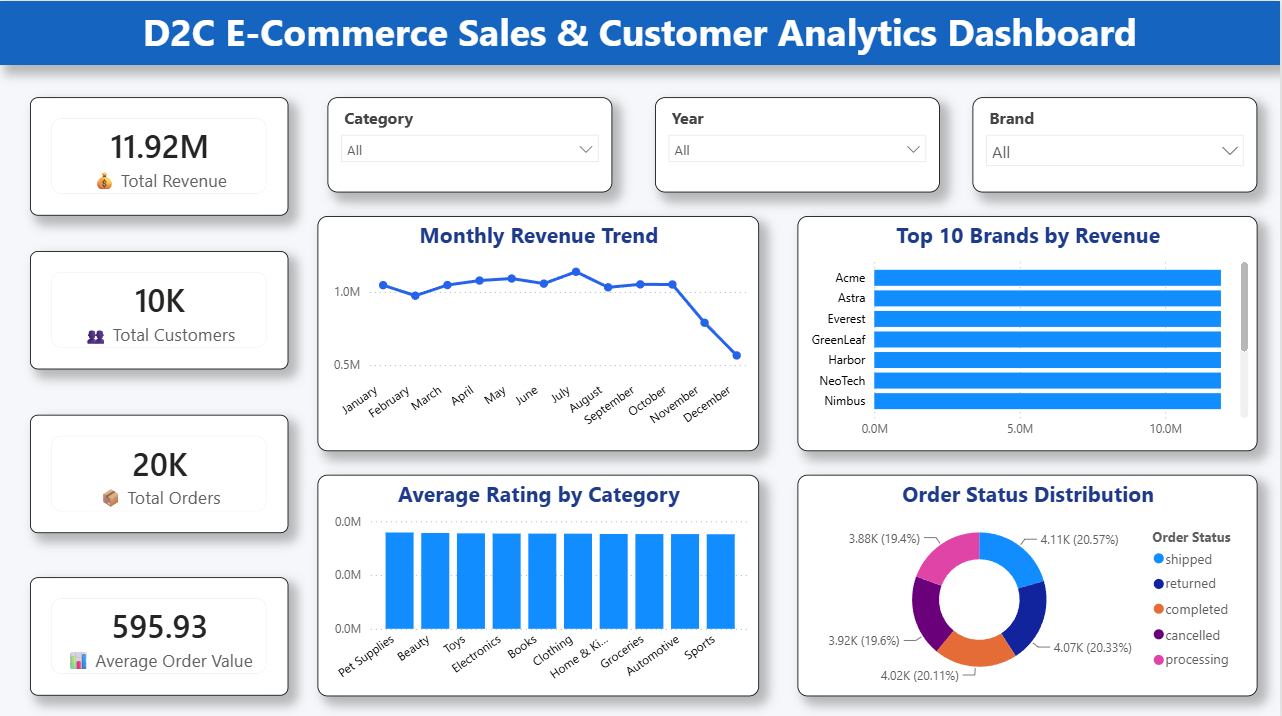

What the dashboard file says about the page in this screenshot:
{"tool":"powerbi","page":{"name":"Executive Overview","canvas":[1280,720],"ordinal":0},"visuals":[{"type":"shape","box":[0,0,1280,61.2],"z":0},{"type":"textbox","box":[0,0,1280,63.8],"z":1000},{"type":"cardVisual","fields":{"Data":["orders.Total Revenue"]},"box":[30,96.2,258.8,118.8],"z":2000},{"type":"cardVisual","fields":{"Data":["events.Total Orders"]},"box":[30,413.8,258.8,118.8],"z":3000},{"type":"cardVisual","fields":{"Data":["events.Total Customers"]},"box":[30,250,258.8,118.8],"z":4000},{"type":"cardVisual","fields":{"Data":["order_items.Average Order Value"]},"box":[30,576.2,258.8,118.8],"z":5000},{"type":"lineChart","title":"Monthly Revenue Trend","fields":{"Y":["orders.Total Revenue"],"Category":["orders.order_date.Variation.Date Hierarchy.Month"]},"box":[317.5,215,441.2,235],"z":6000},{"type":"clusteredBarChart","title":"Top 10 Brands by Revenue","fields":{"Y":["orders.Total Revenue"],"Category":["products.brand"]},"box":[797.5,215,460,235],"z":7000},{"type":"slicer","fields":{"Values":["products.brand"]},"box":[972.5,96.2,285,95],"z":8000},{"type":"slicer","fields":{"Values":["orders.order_date.Variation.Date Hierarchy.Year","orders.order_date.Variation.Date Hierarchy.Month"]},"box":[655,96.2,285,95],"z":9000},{"type":"slicer","fields":{"Values":["products.category"]},"box":[327.5,96.2,285,95],"z":10000},{"type":"clusteredColumnChart","title":"Average Rating by Category","fields":{"Category":["products.category"],"Y":["orders.Average Rating"]},"box":[317.5,473.8,441.2,221.2],"z":11000},{"type":"donutChart","title":" Order Status Distribution","fields":{"Category":["orders.order_status"],"Y":["CountNonNull(orders.order_id)"]},"box":[797.5,473.8,460,221.2],"z":12000}]}

Visuals, with their boxes in screenshot pixels (x1, y1, x2, y2), scaled from the page's 1280x720 canvas onto the 1282x716 screenshot:
shape: 0,0,1281,61
textbox: 0,0,1281,63
cardVisual - orders.Total Revenue: 30,96,289,214
cardVisual - events.Total Orders: 30,412,289,530
cardVisual - events.Total Customers: 30,249,289,367
cardVisual - order_items.Average Order Value: 30,573,289,691
"Monthly Revenue Trend" lineChart: 318,214,760,448
"Top 10 Brands by Revenue" clusteredBarChart: 799,214,1259,448
slicer - products.brand: 974,96,1259,190
slicer - orders.order_date.Variation.Date Hierarchy.Year x orders.order_date.Variation.Date Hierarchy.Month: 656,96,941,190
slicer - products.category: 328,96,613,190
"Average Rating by Category" clusteredColumnChart: 318,471,760,691
" Order Status Distribution" donutChart: 799,471,1259,691
